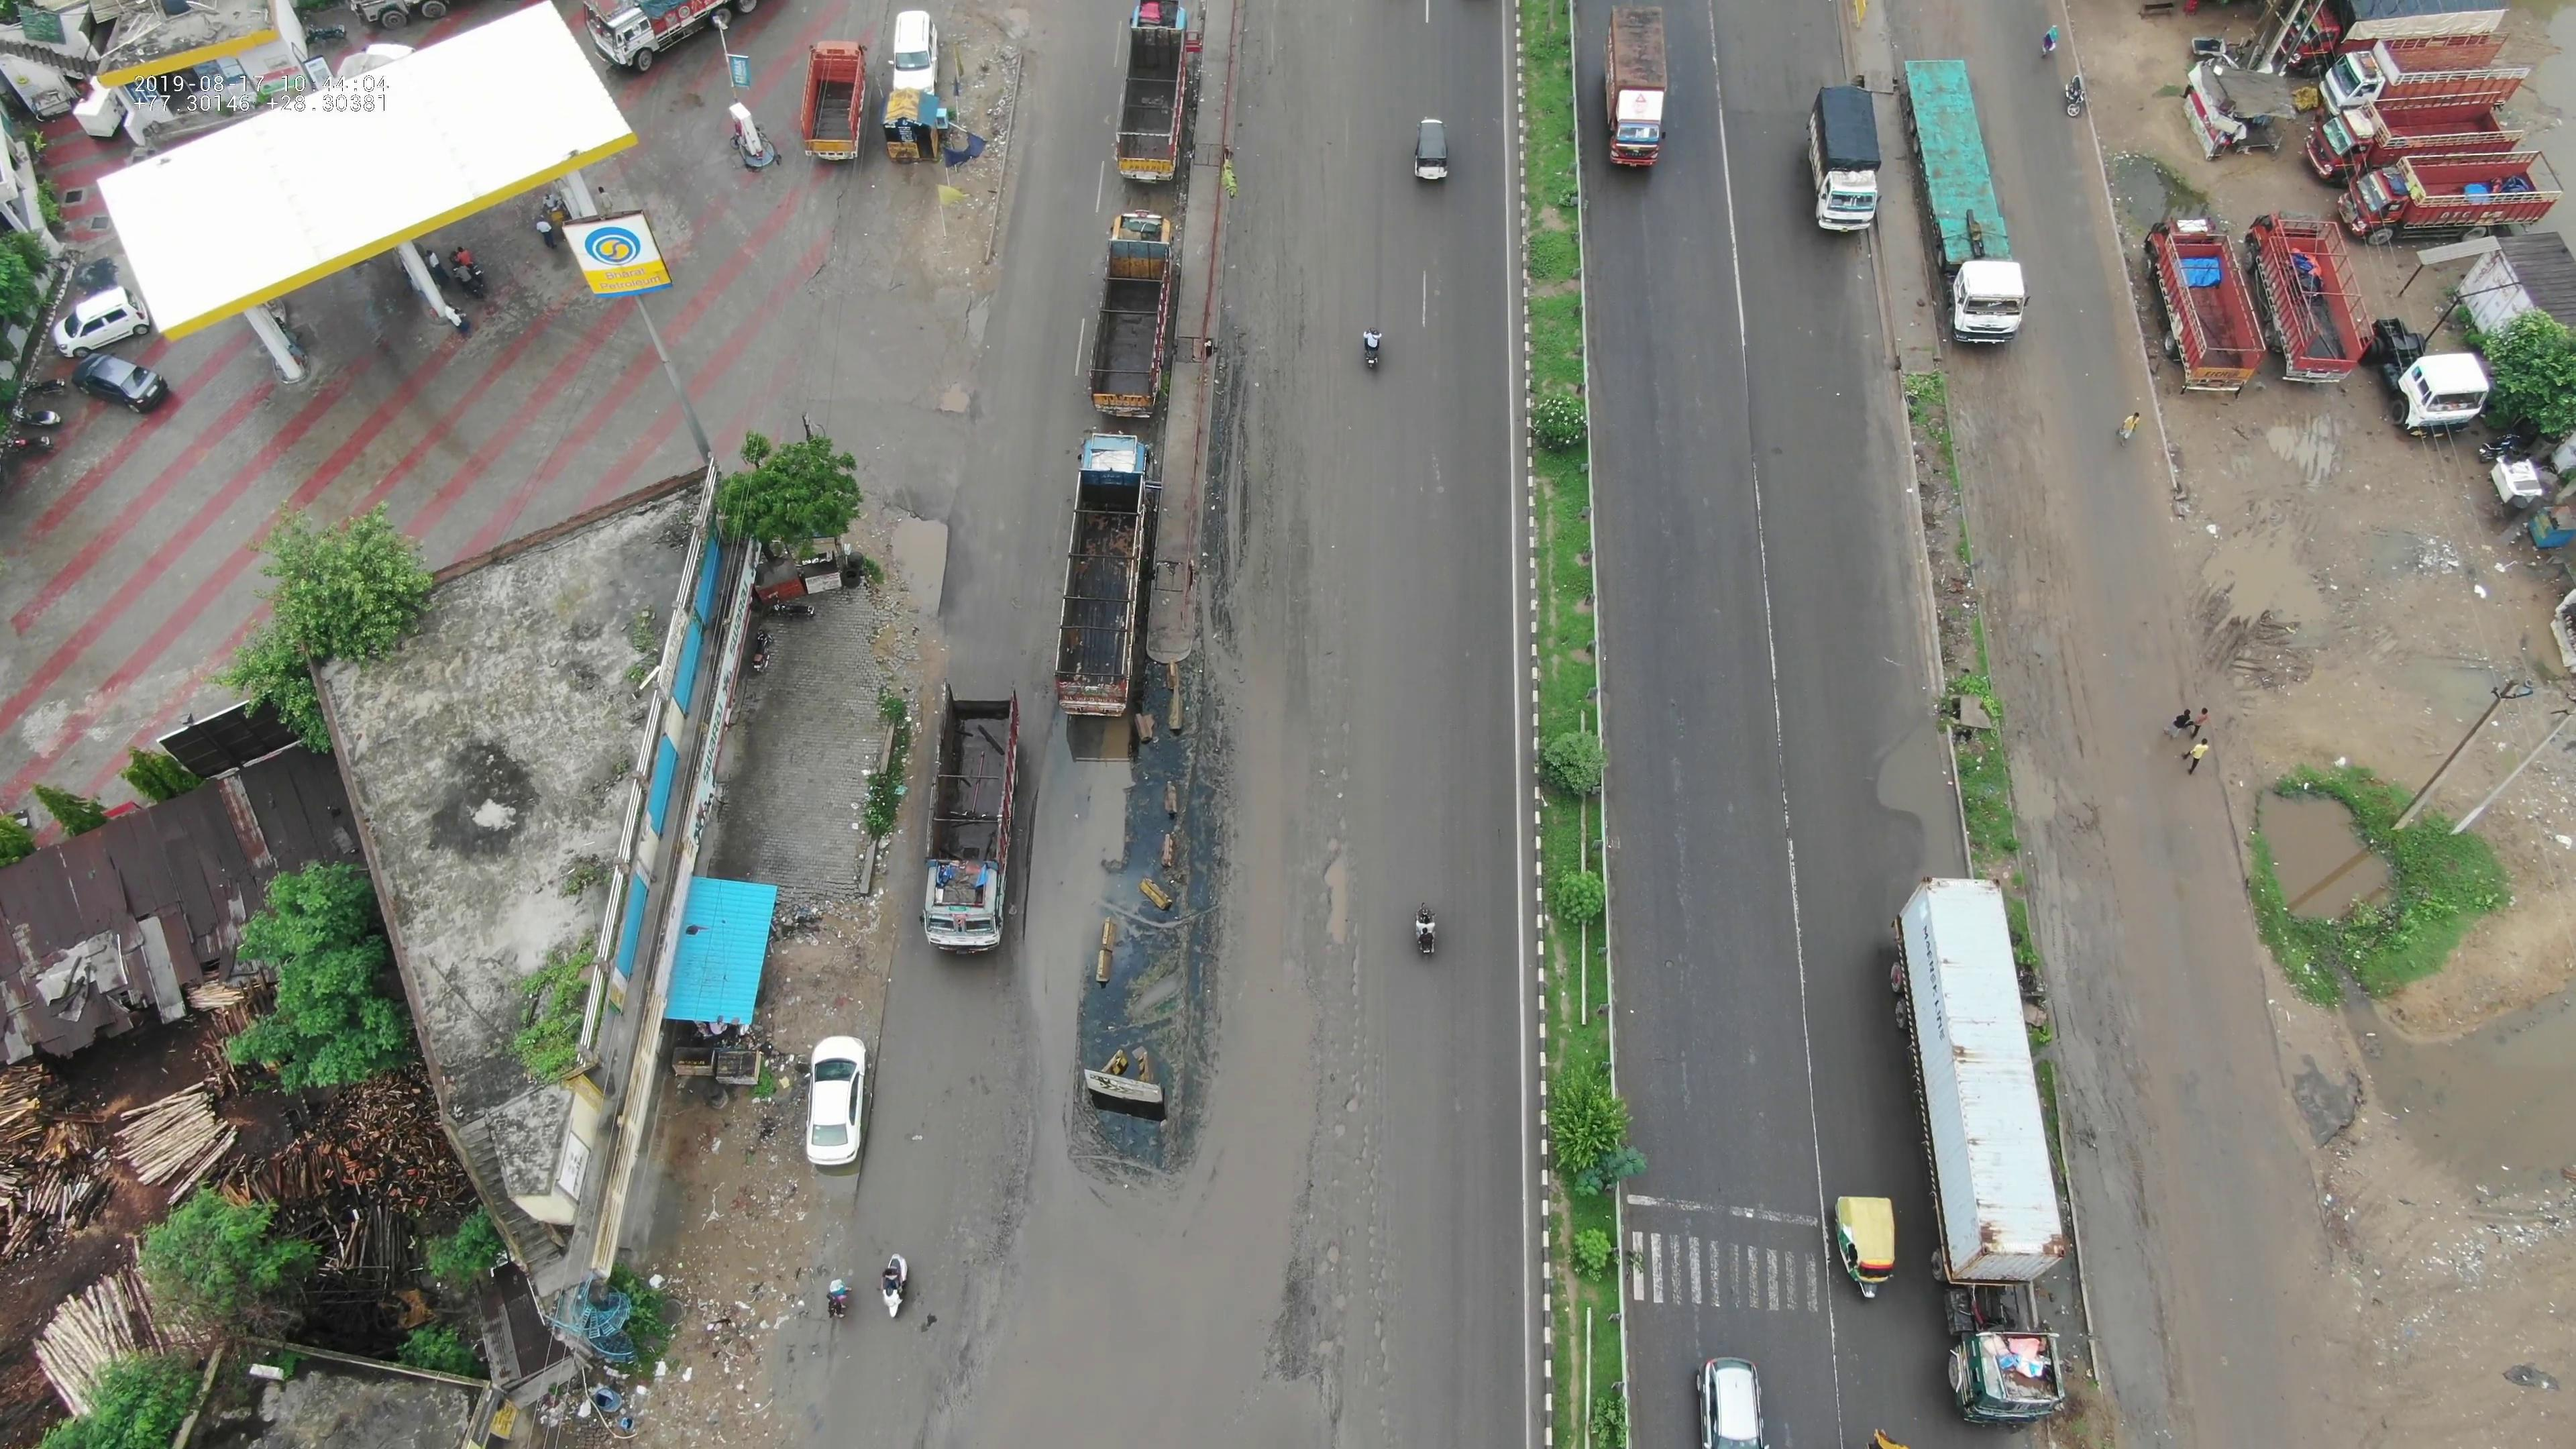Muddy_road: (1987, 649, 2121, 966), (1967, 389, 2063, 663), (1221, 308, 1290, 649)
Potholes: (1274, 1185, 1408, 1426), (1295, 1014, 1391, 1292), (1288, 688, 1384, 961), (1658, 695, 1729, 948), (945, 1088, 1030, 1277), (922, 363, 980, 456)
Waterlogging: (1867, 685, 1962, 874)
